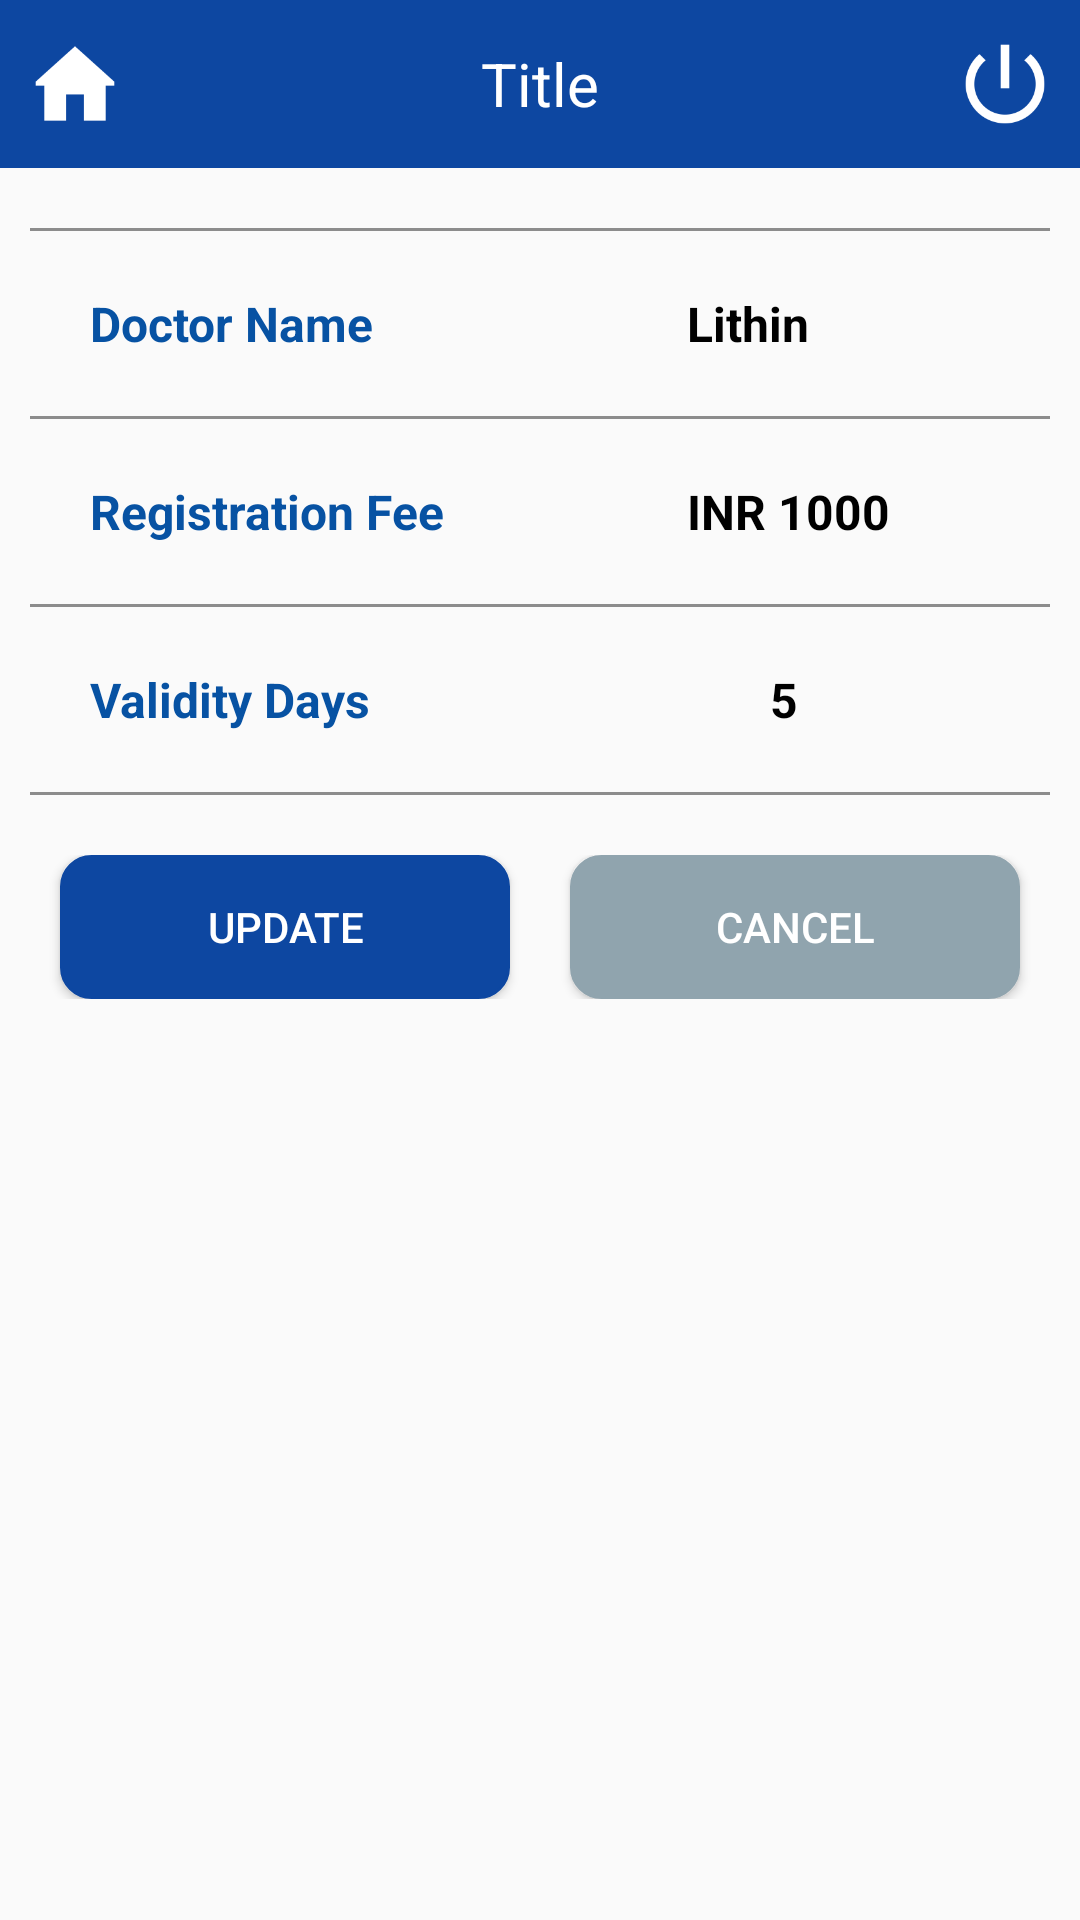

Where to tap for icons on this 1080×1920 app screen, as (x=x, y=y):
home: (x=75, y=83)
